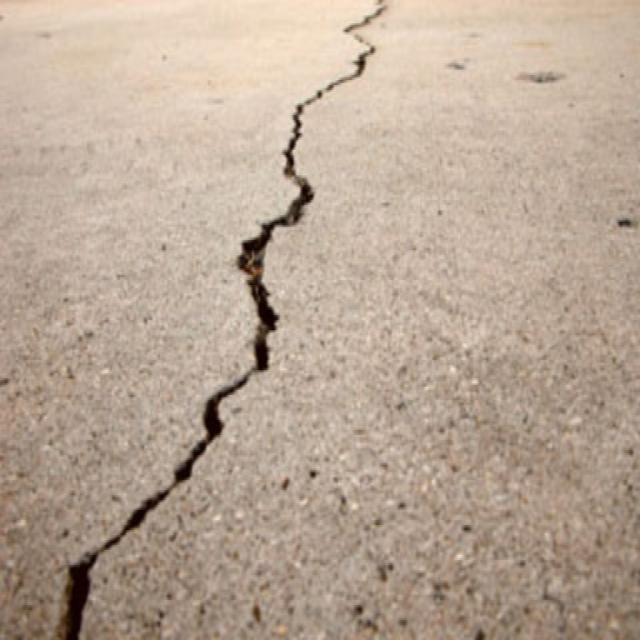crack: (57, 1, 388, 636)
